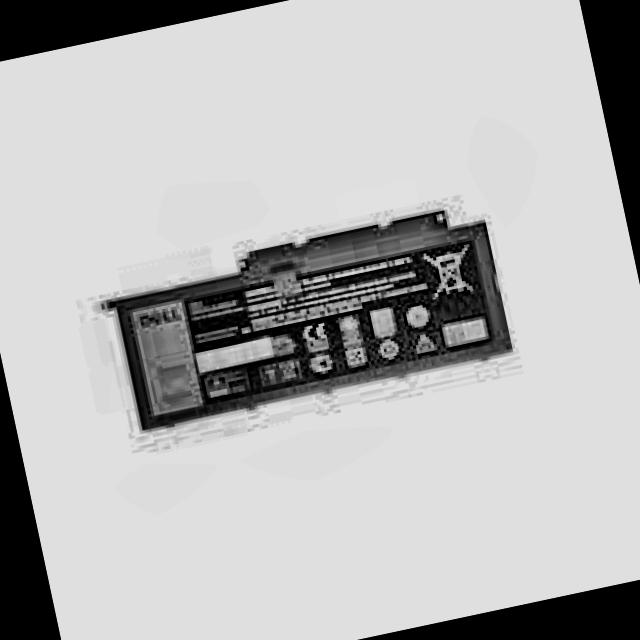Battery: (110, 201, 514, 427)
